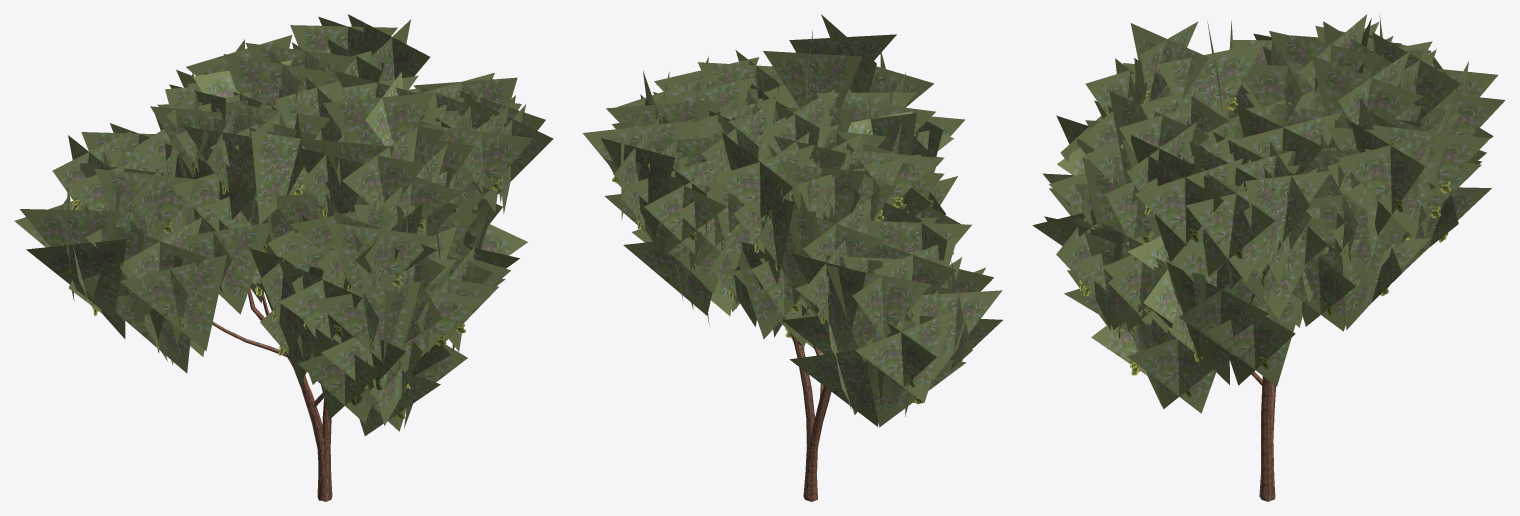
File: Arbutus_Unedo_Spring_Young.glb
3 views of the same model, side by side, from view 1: azimuth 30°, elevation 25°; view 2: azimuth 150°, elevation 25°; view 3: azimuth 270°, elevation 25° (orthographic). The views are drawn at different scales.
Parts seen in each view (by area): view 1: Arbutus_Unedo_Spring_Young__LOD3; view 2: Arbutus_Unedo_Spring_Young__LOD3; view 3: Arbutus_Unedo_Spring_Young__LOD3.
Part boxes in pixels (left/top/right/bottom): Arbutus_Unedo_Spring_Young__LOD3: left=14, top=14, right=553, bottom=501; Arbutus_Unedo_Spring_Young__LOD3: left=582, top=14, right=1002, bottom=501; Arbutus_Unedo_Spring_Young__LOD3: left=1032, top=14, right=1505, bottom=501.
Size of the model in its own units: 4.32 by 4.24 by 3.87.
3 materials, 3 textured.
